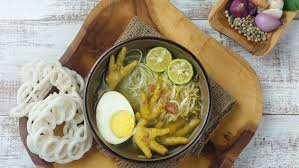soto: (83, 35, 215, 159)
